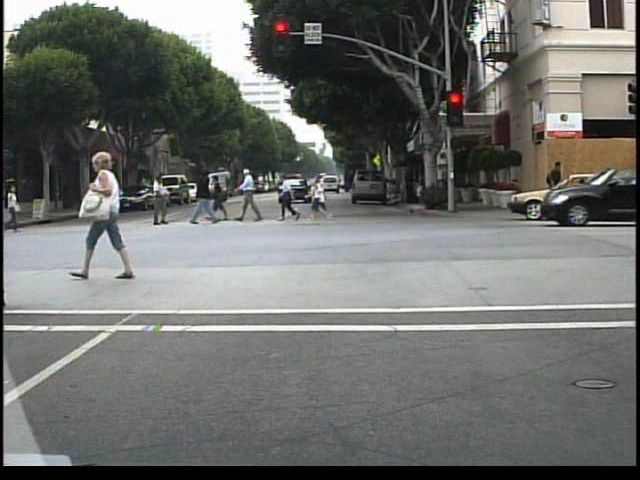person: (81, 150, 137, 281), (188, 165, 220, 229), (237, 166, 267, 225), (279, 171, 302, 225), (546, 155, 567, 212), (149, 171, 170, 228), (210, 172, 233, 224), (3, 182, 25, 236), (19, 194, 41, 239)
